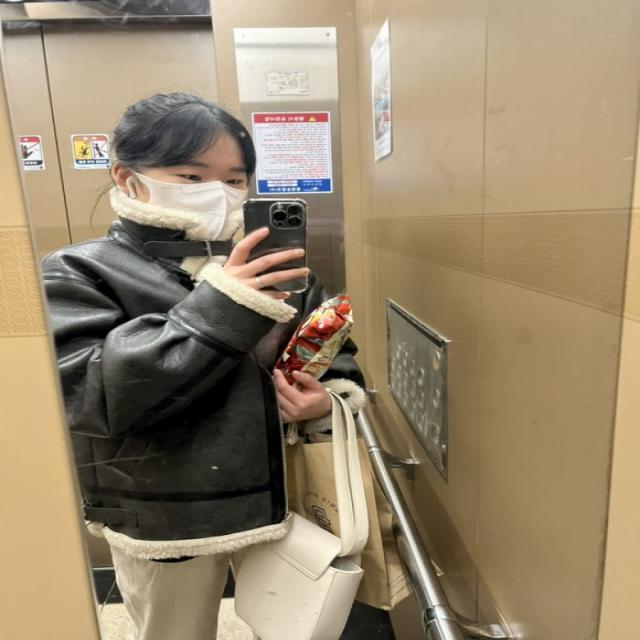phone: (242, 198, 308, 292)
